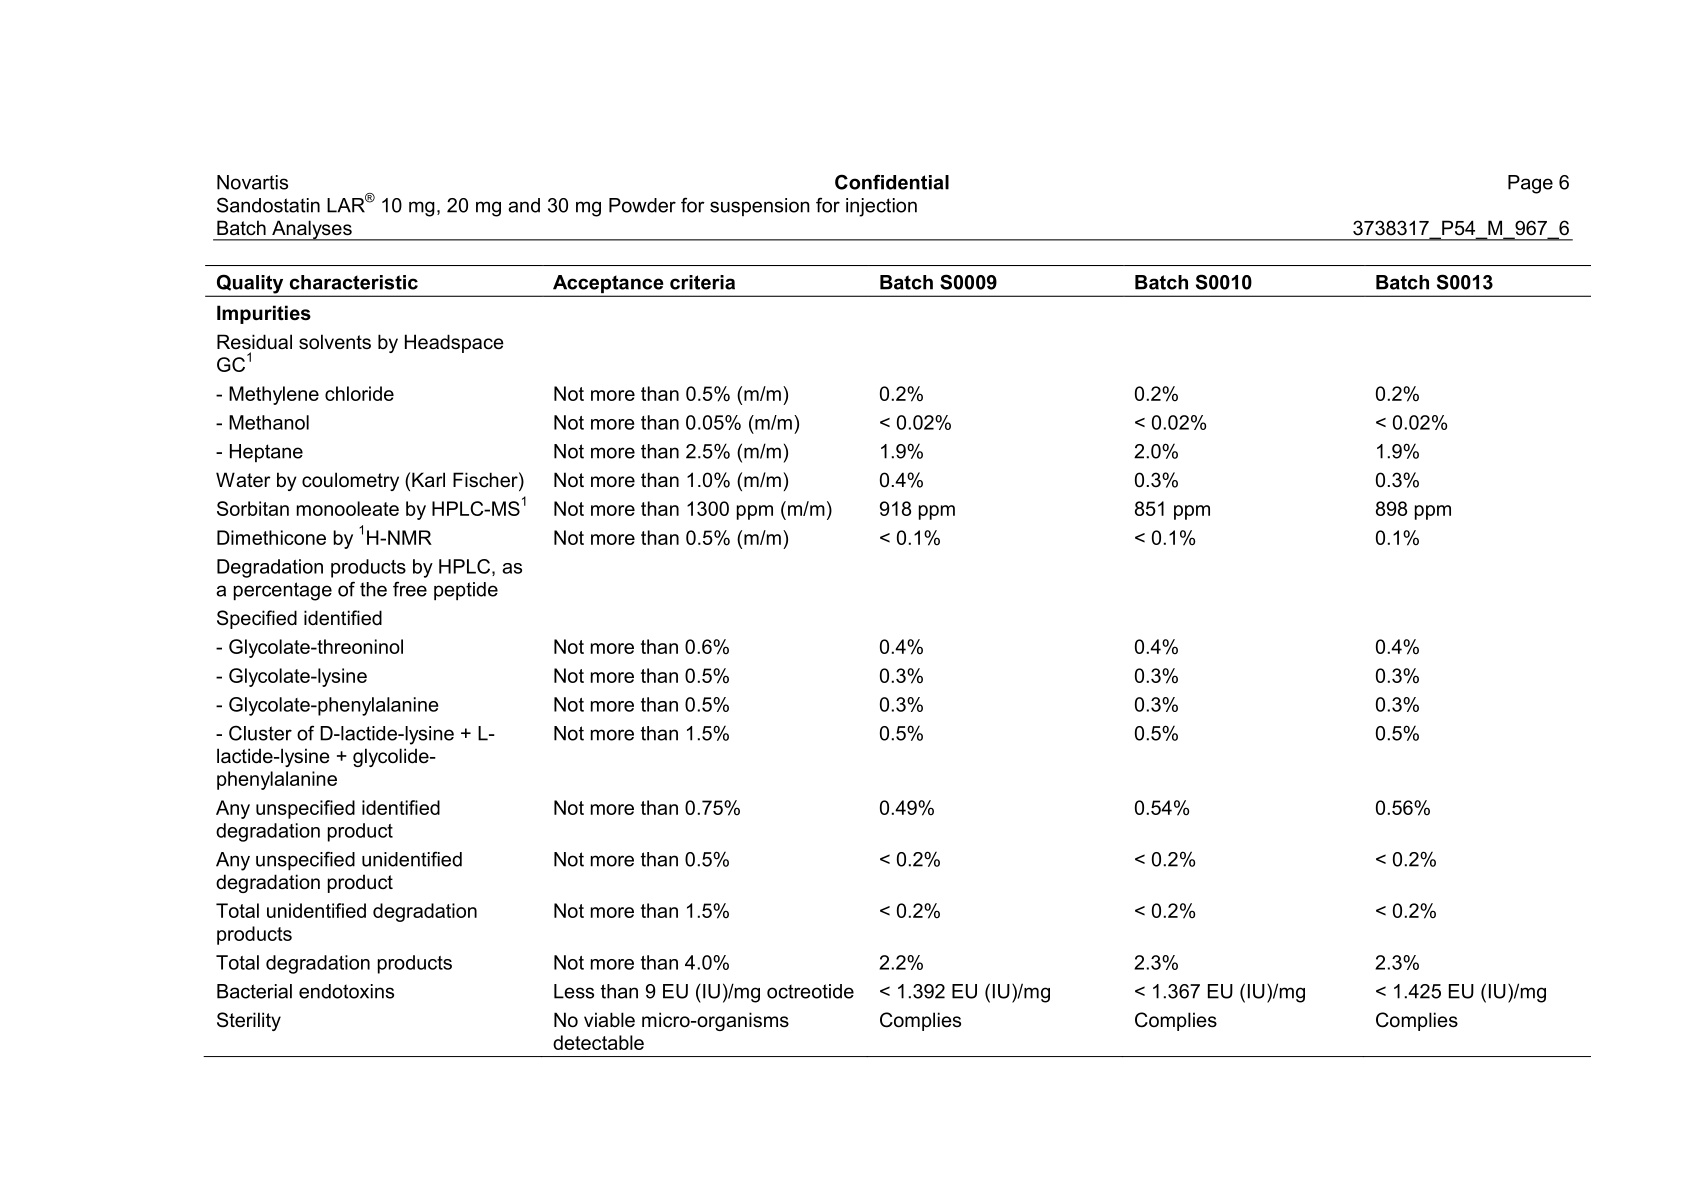partial_lined: (204, 263, 1593, 1060)
